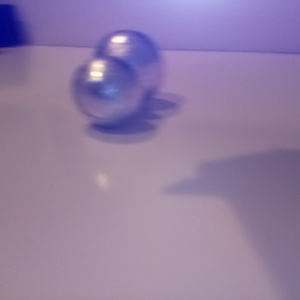alive_ball: (91, 29, 162, 101), (69, 56, 141, 125)
